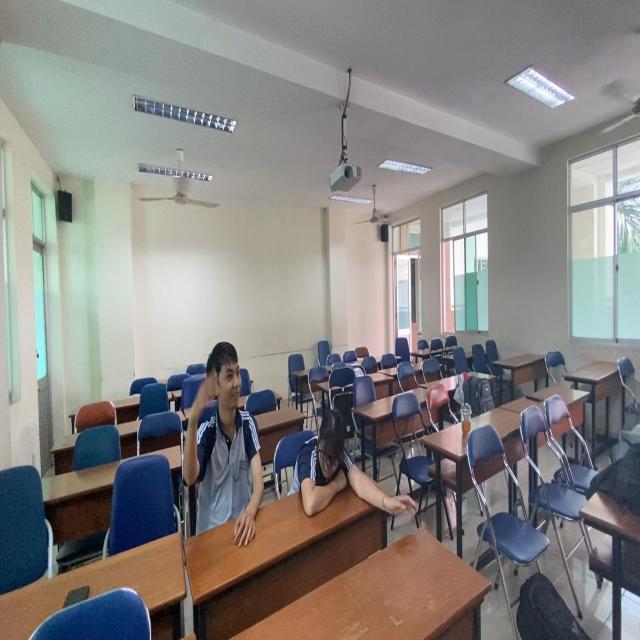raise_hand: (190, 338, 268, 523)
sleep: (283, 404, 396, 515)
